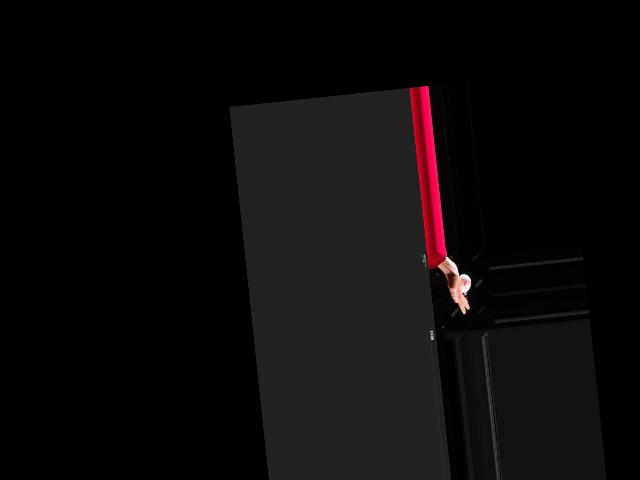egg: (457, 272, 471, 292)
